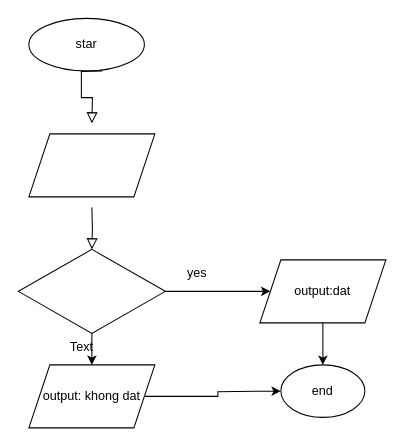
Some shapes in this 404 by 446 pixel diagram are drawn without their labels. The shapes that lost their labels are listed below. From the top down, each one's centre as x and y in pixels, then its label:
At pixel 91 165: "input diemso".
At pixel 91 290: "if diemso>=5".
